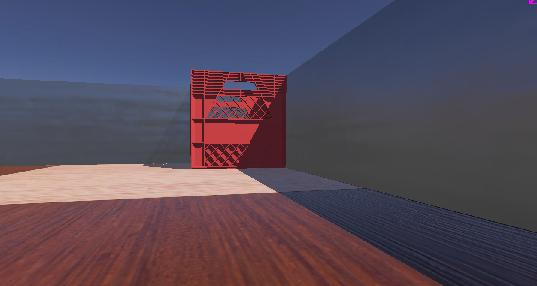PlasticCrate: (178, 59, 304, 174)
